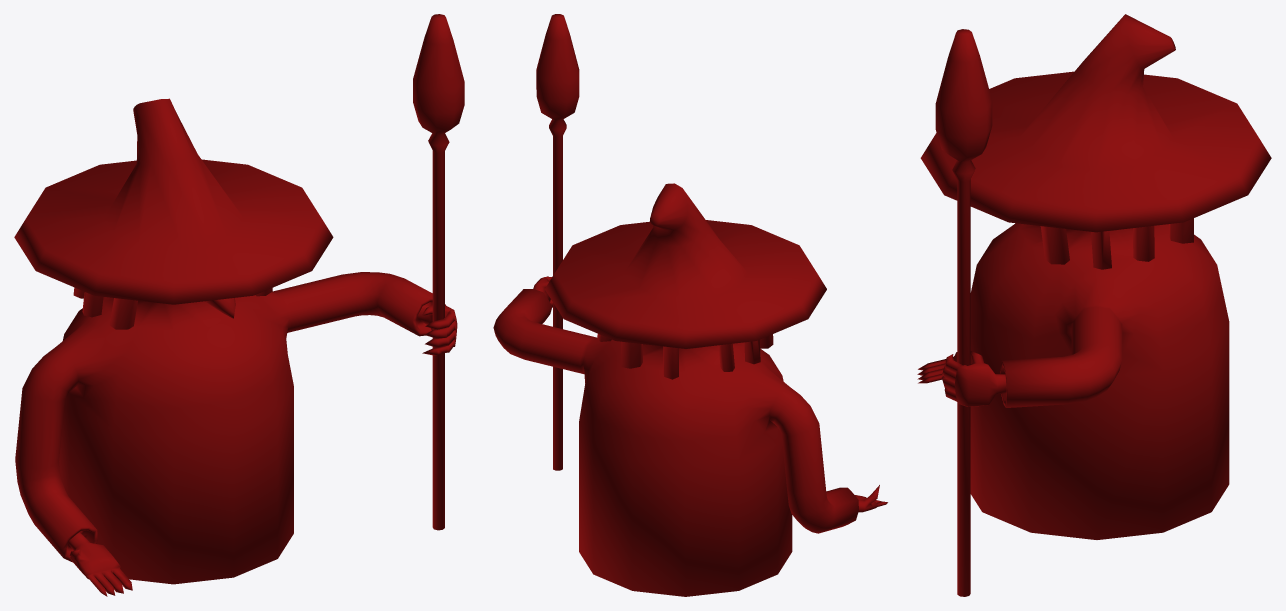
File: Licorice Witch.obj
3 renders of one model, left to right at view 1: azimuth 30°, elevation 25°; view 2: azimuth 150°, elevation 25°; view 3: azimuth 270°, elevation 25°, orthographic. The views are drawn at different scales.
Parts seen in each view (by area): view 1: Licorice_Witch; view 2: Licorice_Witch; view 3: Licorice_Witch.
Part boxes in pixels (box(x1,y1,x2,y2)): Licorice_Witch: box(14, 14, 464, 596); Licorice_Witch: box(493, 14, 887, 596); Licorice_Witch: box(917, 14, 1271, 596).
Size of the model in its own units: 99.73 by 123 by 70.59.
